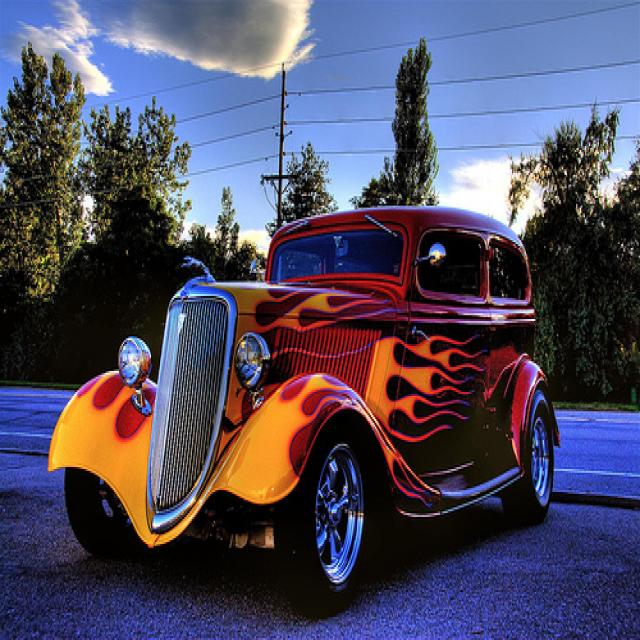Car: (47, 209, 566, 618)
